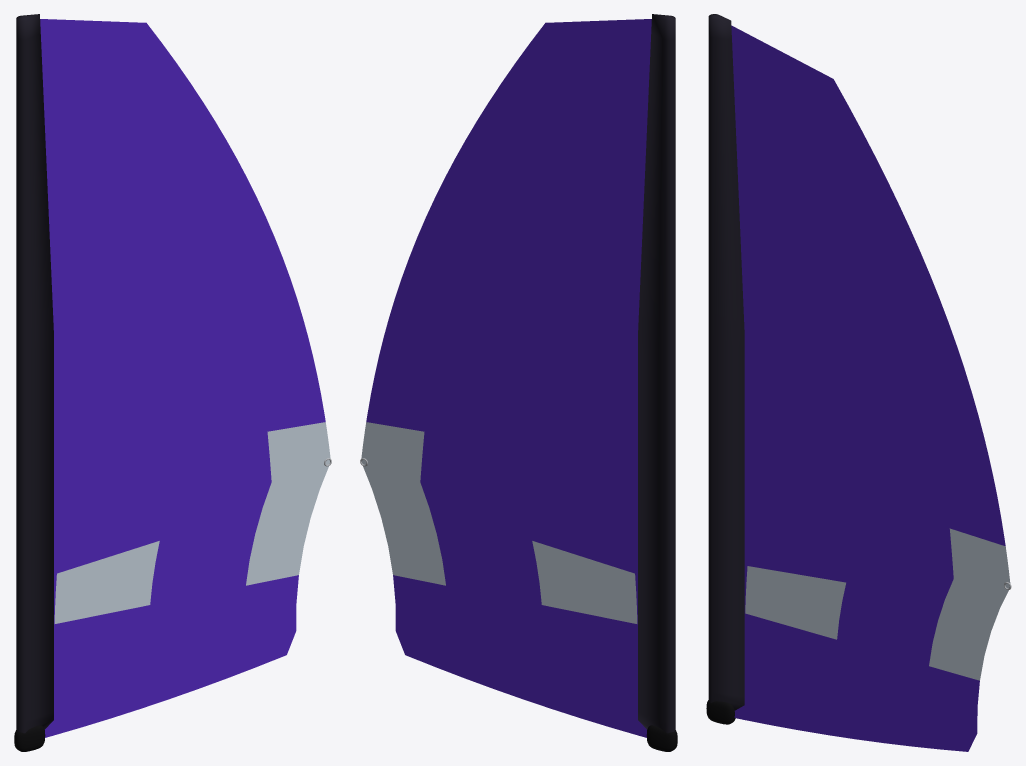
File: gg_sails_slalom_6_7.glb
3 renders of one model, left to right at view 1: azimuth 30°, elevation 25°; view 2: azimuth 150°, elevation 25°; view 3: azimuth 330°, elevation 25°, orthographic. The views are drawn at different scales.
Parts seen in each view (by area): view 1: SailCloth, TackFairing; view 2: SailCloth, TackFairing; view 3: SailCloth, TackFairing.
Part boxes in pixels (x1,y1,x2,y2): SailCloth: (16, 14, 330, 737); TackFairing: (14, 725, 45, 751); SailCloth: (361, 14, 675, 737); TackFairing: (646, 725, 677, 751); SailCloth: (708, 14, 1010, 751); TackFairing: (706, 700, 735, 724).
Size of the model in its own units: 2.01 by 4.47 by 0.08.
